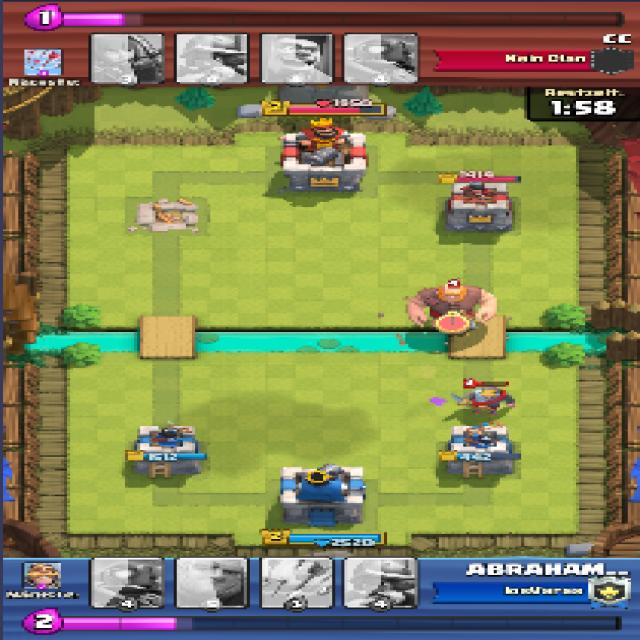Enemy-Giant: (411, 285, 498, 329)
Enemy-Knight: (460, 388, 517, 413)
